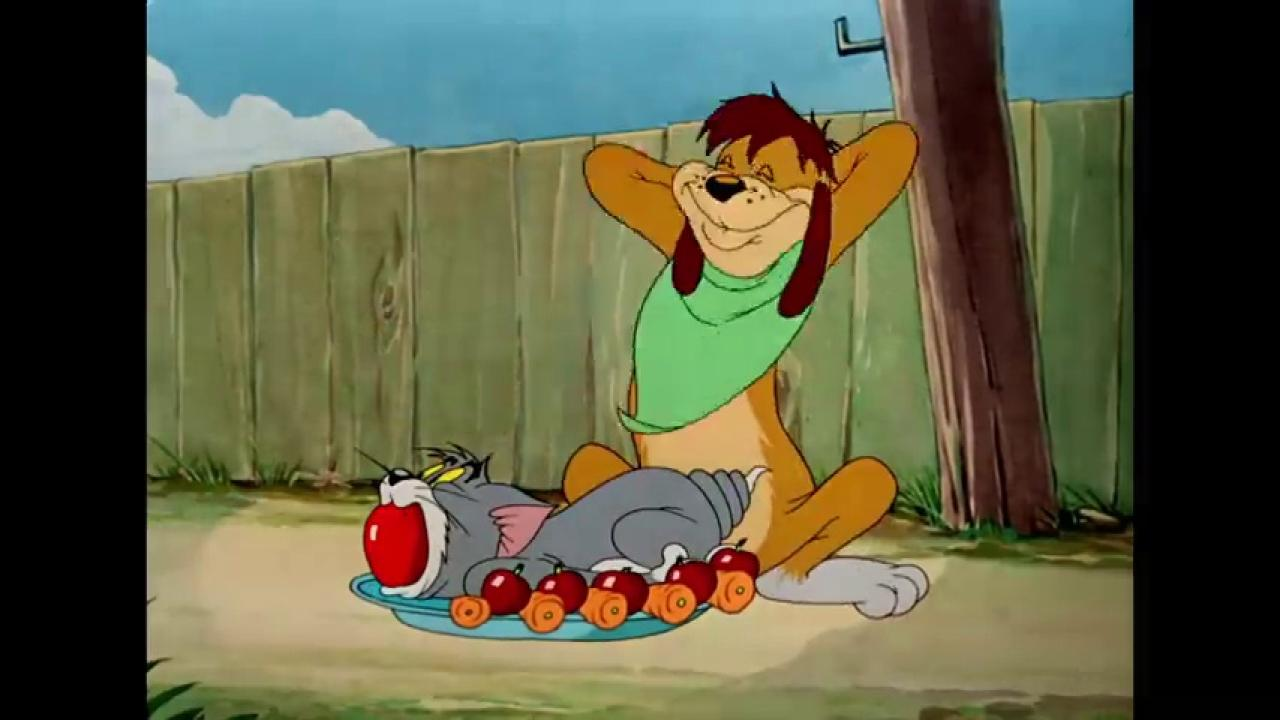Tom: (375, 439, 773, 602)
